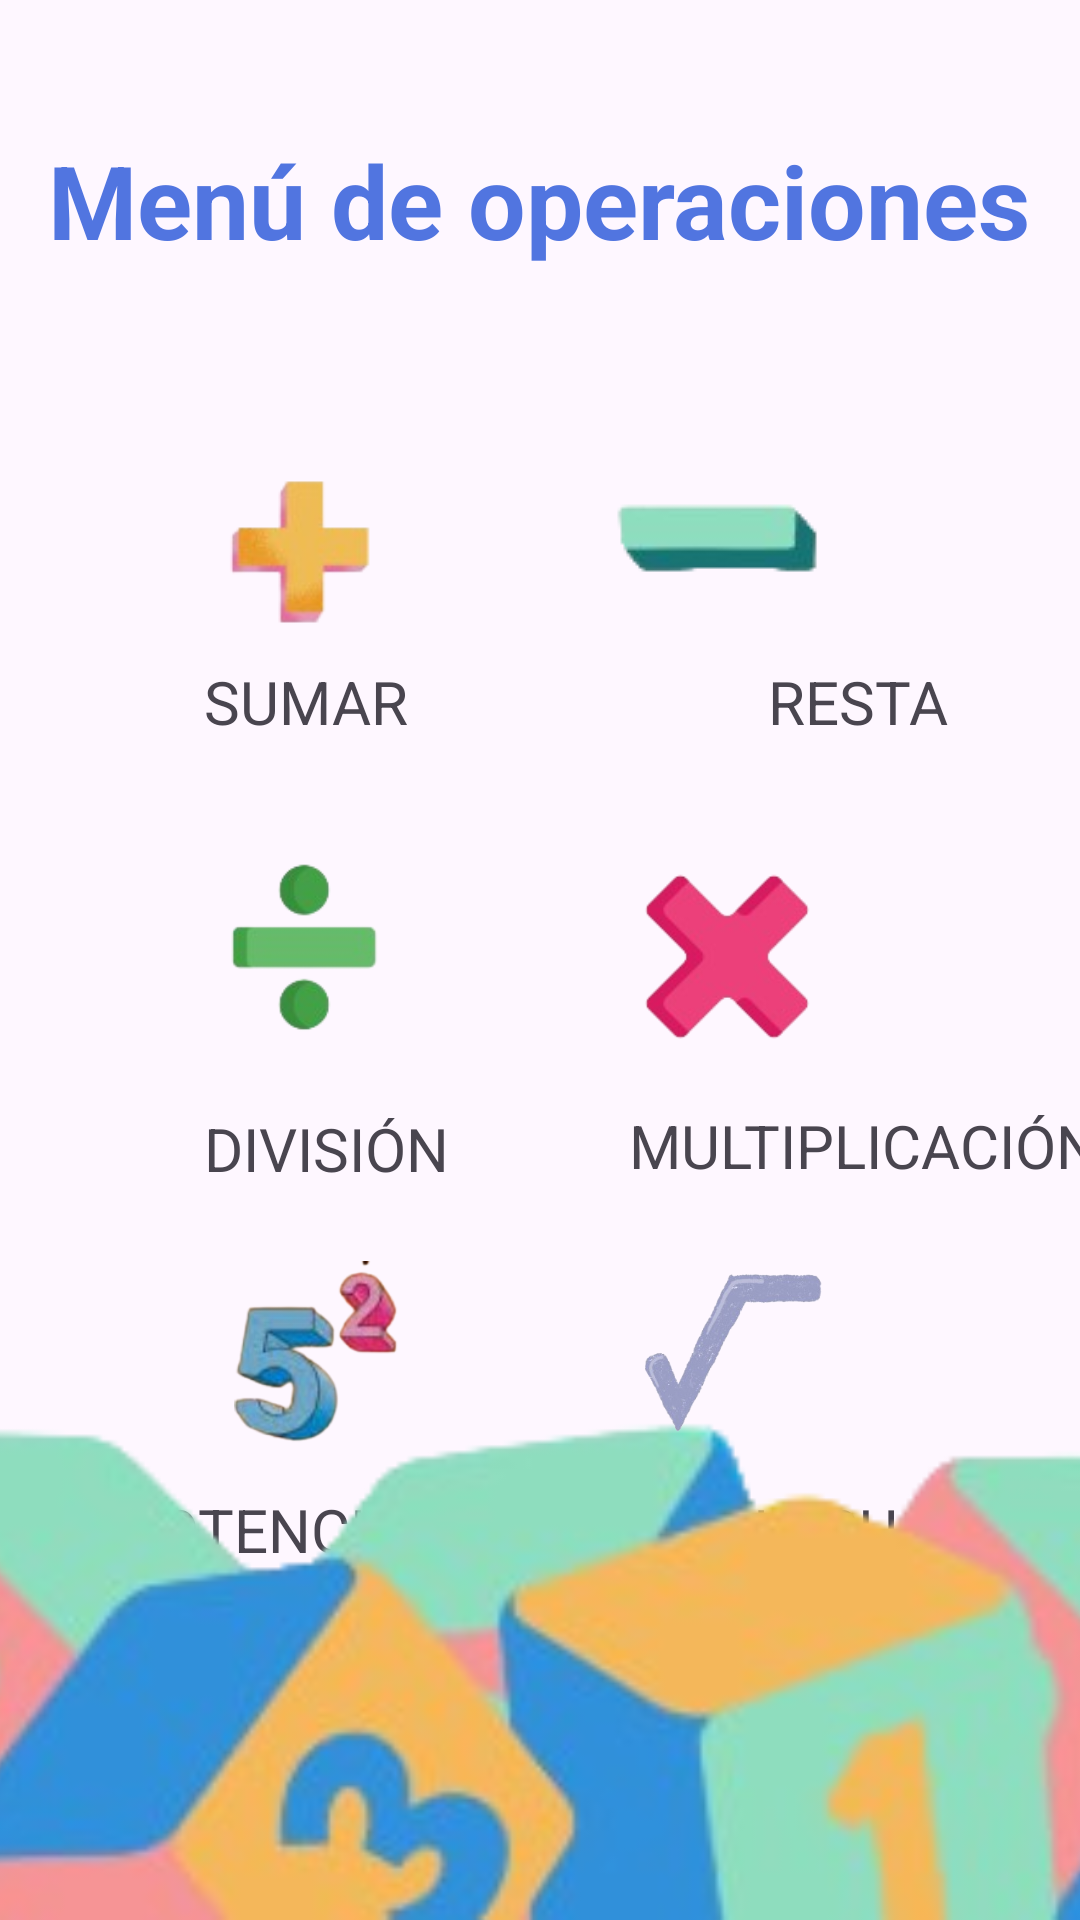

Where icons sit on this 1080x1920 app screen, as (x1, y1, x2, y2):
division: (232, 864, 376, 1030)
multiplicacion: (646, 875, 809, 1038)
potenciacion: (234, 1261, 397, 1441)
